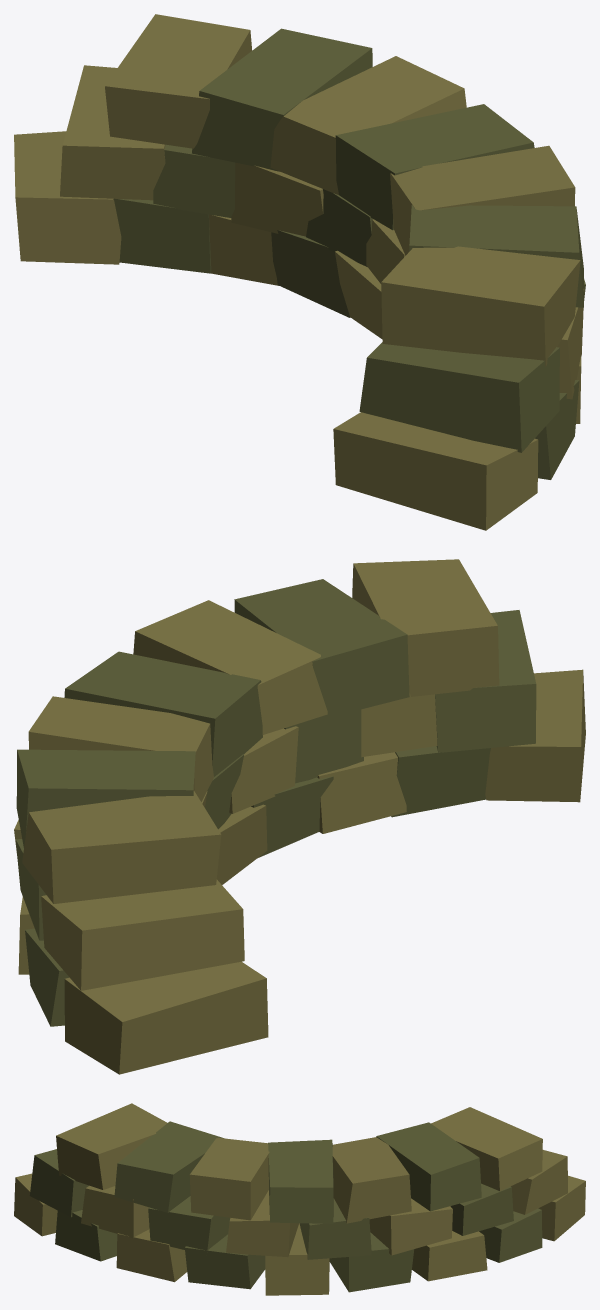
File: sandbags.glb
3 views of the same model, one above another, from view 1: azimuth 30°, elevation 25°; view 2: azimuth 150°, elevation 25°; view 3: azimuth 270°, elevation 25° (orthographic). The views are drawn at different scales.
Parts seen in each view (by area): view 1: sandbags; view 2: sandbags; view 3: sandbags.
Boxes of the visible parts, bbox=[...] form: sandbags: bbox=[14, 14, 585, 530]; sandbags: bbox=[14, 559, 585, 1074]; sandbags: bbox=[14, 1103, 585, 1295].
Size of the model in its own units: 2.09 by 1.08 by 4.93.
